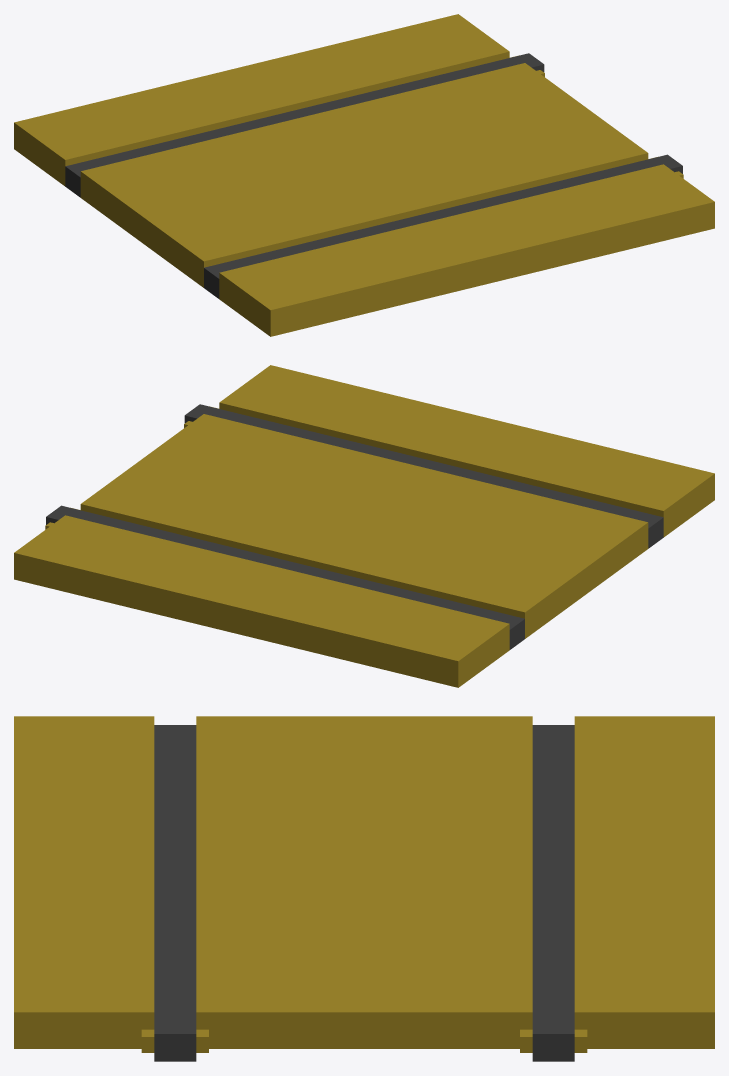
File: TrapLauncher.glb
3 views of the same model, one above another, from view 1: azimuth 30°, elevation 25°; view 2: azimuth 150°, elevation 25°; view 3: azimuth 270°, elevation 25° (orthographic). The views are drawn at different scales.
Visible parts, largest first — view 1: Springboard; view 2: Springboard; view 3: Springboard.
Boxes of the visible parts, x1,y1,x2,y2 form: Springboard: (14, 14, 714, 336); Springboard: (14, 365, 714, 687); Springboard: (14, 716, 714, 1061).
Bounding box in the file's own units: 1.67 × 0.0917 × 1.6.
